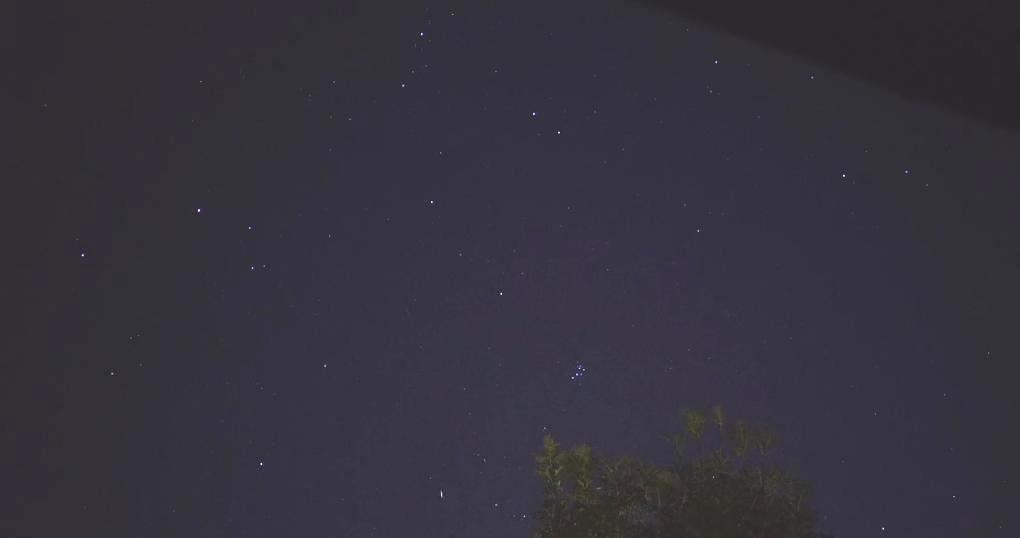meteorite: (429, 487, 454, 500)
